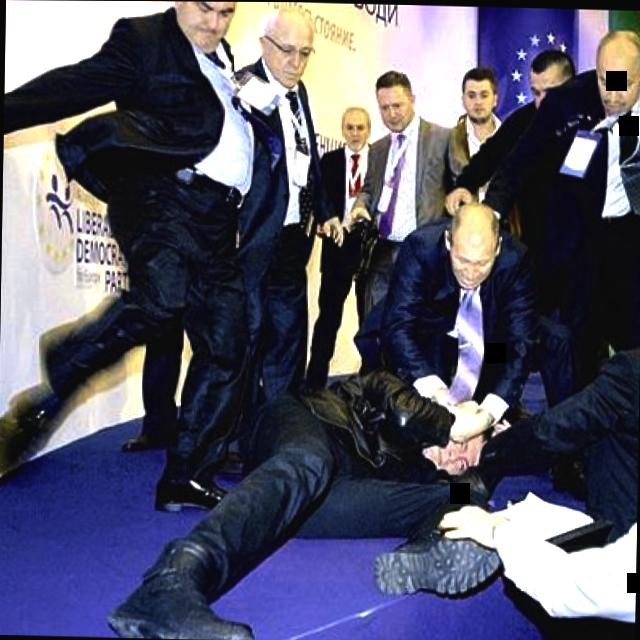Fall-Detected: (78, 338, 545, 640)
